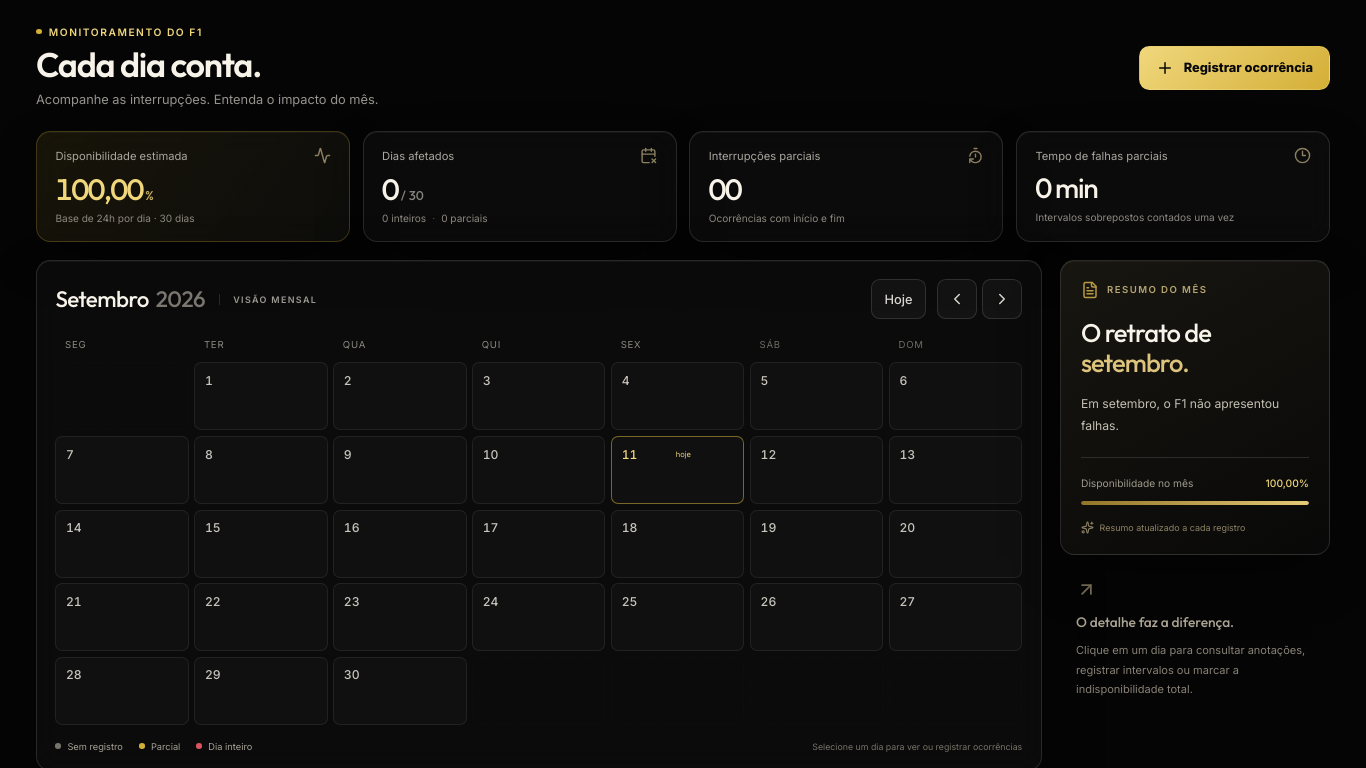
Test case: calendar persistence › loads the next month from persistence and refreshes its summary
Step 1. Click the button named "Próximo mês" → (1002, 299), box [982,279,1022,319]
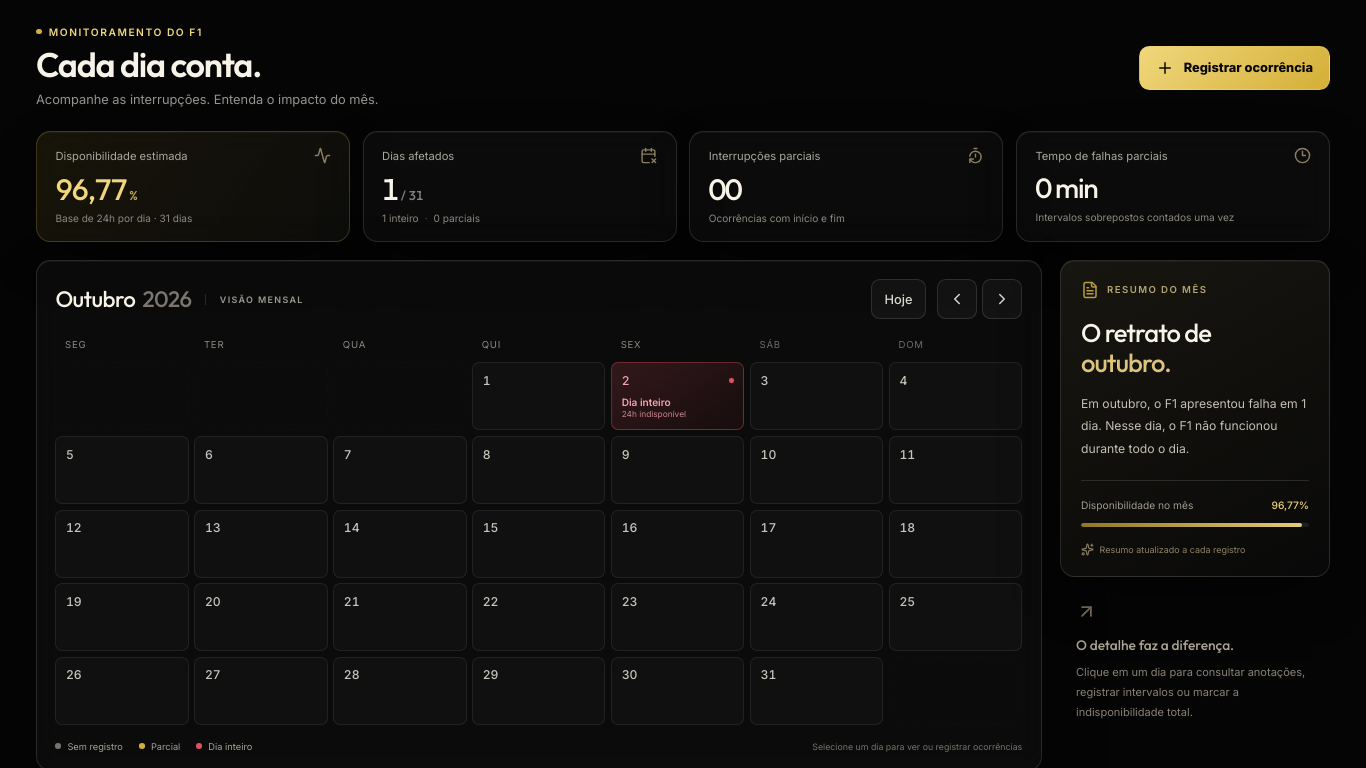
Expected: the button named "2 de outubro, indisponível durante todo o dia" is shown, [611,362,744,430]
Expected: the text "Em outubro, o F1 apresentou falha" is shown, [1081,396,1306,456]
